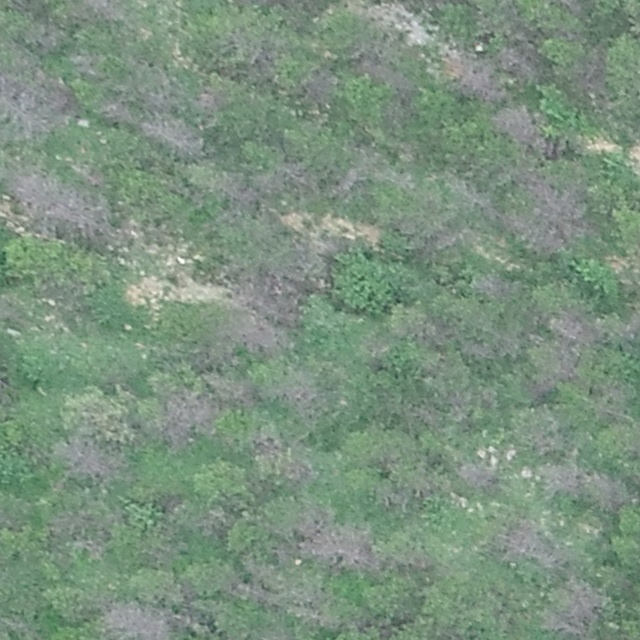unhealthy: (10, 166, 112, 242), (504, 177, 591, 257), (229, 558, 325, 622), (226, 265, 302, 343), (2, 66, 72, 140), (300, 514, 379, 573), (542, 579, 605, 639), (250, 429, 314, 487), (495, 518, 565, 570), (442, 43, 501, 104), (48, 507, 114, 560), (159, 389, 216, 449), (349, 42, 410, 90), (103, 600, 176, 640), (56, 437, 119, 482), (142, 114, 205, 158), (226, 27, 281, 76), (491, 104, 548, 151), (272, 370, 327, 417), (530, 344, 580, 394), (259, 159, 320, 197), (566, 53, 608, 107), (395, 309, 452, 346), (202, 372, 257, 408), (546, 308, 601, 344), (210, 169, 258, 207), (593, 378, 634, 422), (455, 181, 499, 221), (587, 471, 629, 512), (525, 418, 569, 457), (500, 43, 546, 80), (539, 462, 585, 497), (19, 19, 64, 54), (298, 66, 337, 106), (456, 456, 499, 491), (472, 269, 516, 302), (197, 503, 235, 537), (76, 0, 127, 22), (97, 97, 134, 126), (194, 86, 228, 116), (557, 0, 590, 16)
